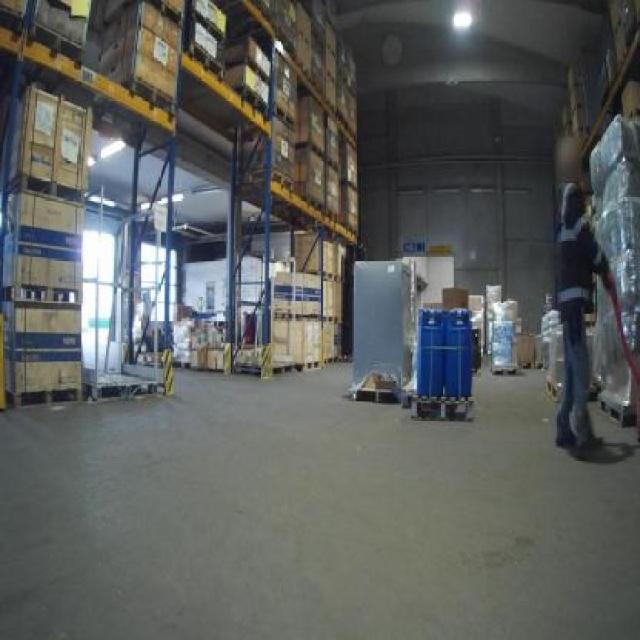pallet: (1, 164, 90, 210), (114, 75, 184, 119), (0, 281, 88, 314), (177, 30, 228, 85), (406, 393, 480, 426)
